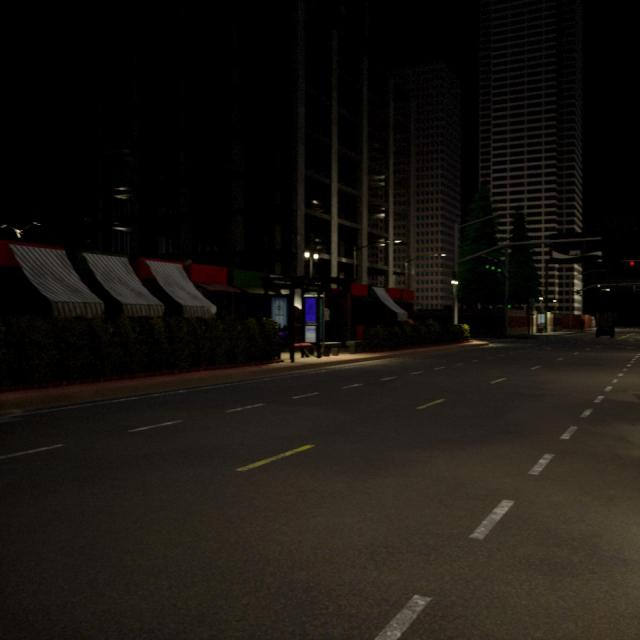Vehicle: (596, 321, 616, 339)
traffic_light: (630, 260, 634, 266), (486, 264, 490, 269), (507, 304, 511, 308), (491, 266, 495, 270), (498, 268, 501, 272)
